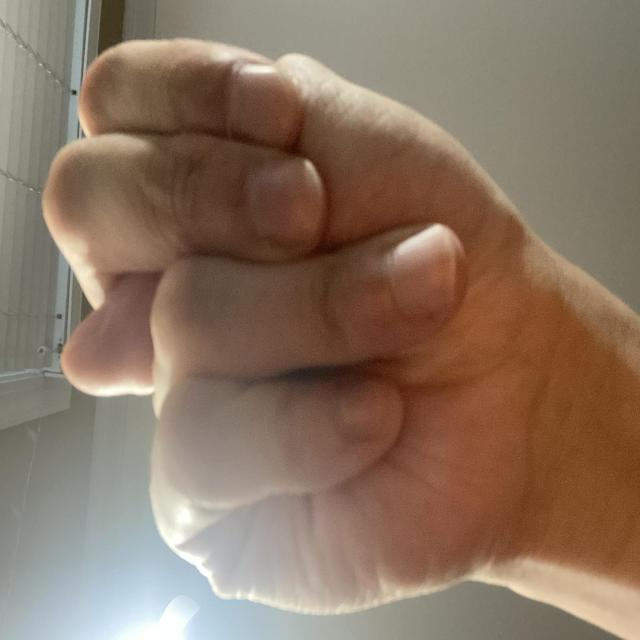N: (14, 46, 480, 640)
